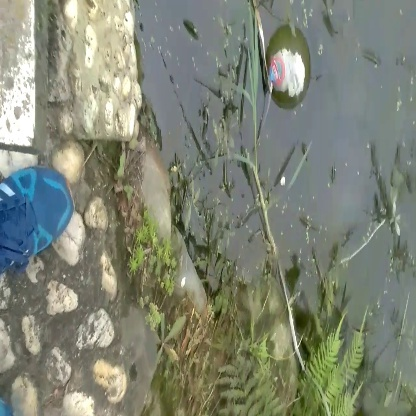plastic-bag: (262, 41, 325, 103)
